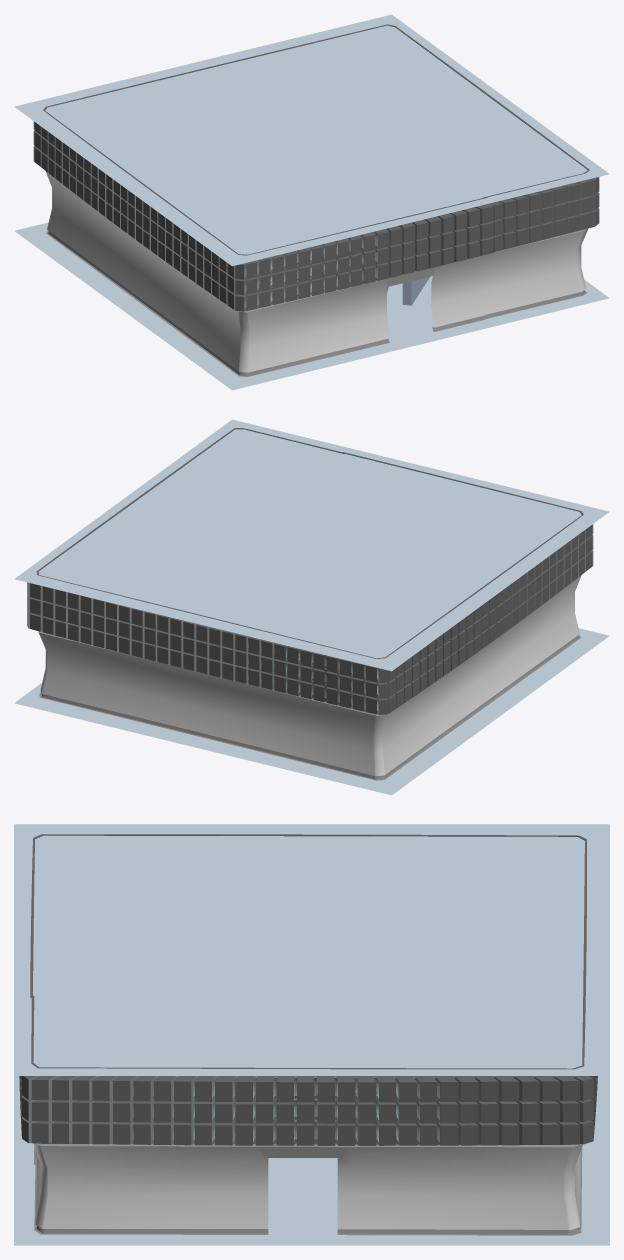
File: m_SmallRoom_2_Conference.fbx
3 views of the same model, one above another, from view 1: azimuth 30°, elevation 25°; view 2: azimuth 150°, elevation 25°; view 3: azimuth 270°, elevation 25° (orthographic). The views are drawn at different scales.
Parts seen in each view (by area): view 1: m_floor; view 2: m_floor; view 3: m_floor.
Part boxes in pixels (x1=…): m_floor: x1=14, y1=14, x2=609, y2=390; m_floor: x1=14, y1=419, x2=609, y2=795; m_floor: x1=14, y1=824, x2=609, y2=1245.
Bounding box in the file's own units: 1515 × 478 × 1515.
